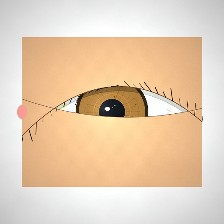pinguecula_lesion: (38, 90, 78, 122)
